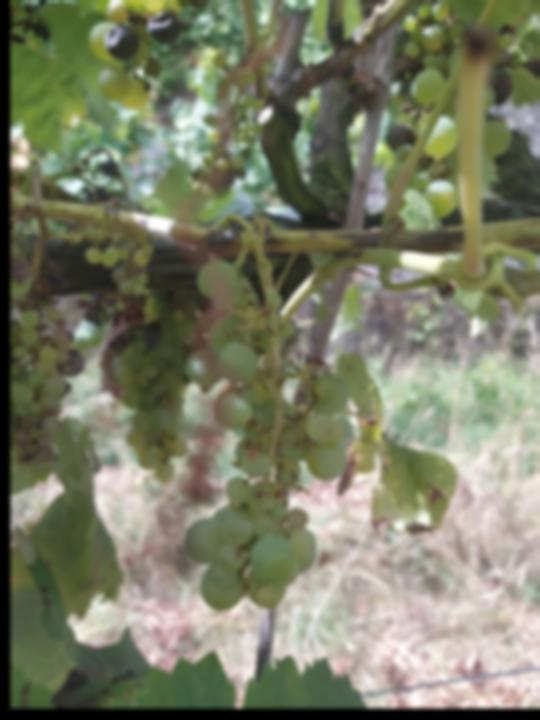grape: (181, 253, 357, 614)
